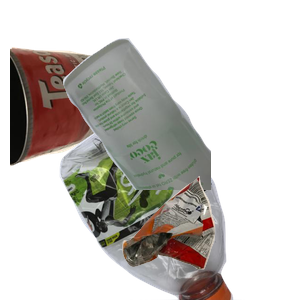glass: (60, 36, 300, 216)
metal: (10, 44, 151, 203)
plastic: (57, 120, 293, 300)
trash: (120, 174, 300, 300)
